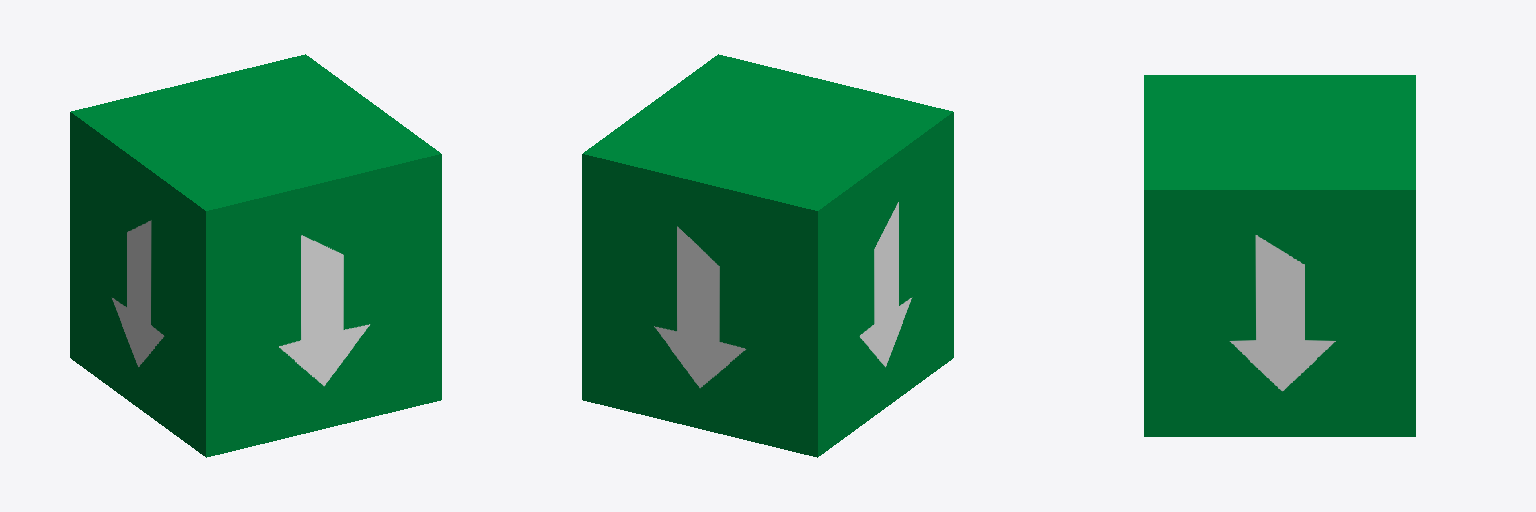
3 views of the same model, side by side, from view 1: azimuth 30°, elevation 25°; view 2: azimuth 150°, elevation 25°; view 3: azimuth 270°, elevation 25° (orthographic).
Parts seen in each view (by area): view 1: Cube; view 2: Cube; view 3: Cube.
Part boxes in pixels (left/top/right/bottom): Cube: left=70, top=54, right=441, bottom=457; Cube: left=582, top=54, right=953, bottom=457; Cube: left=1144, top=75, right=1415, bottom=436.
Bounding box in the file's own units: 2 × 2 × 2.
1 materials, 1 textured.